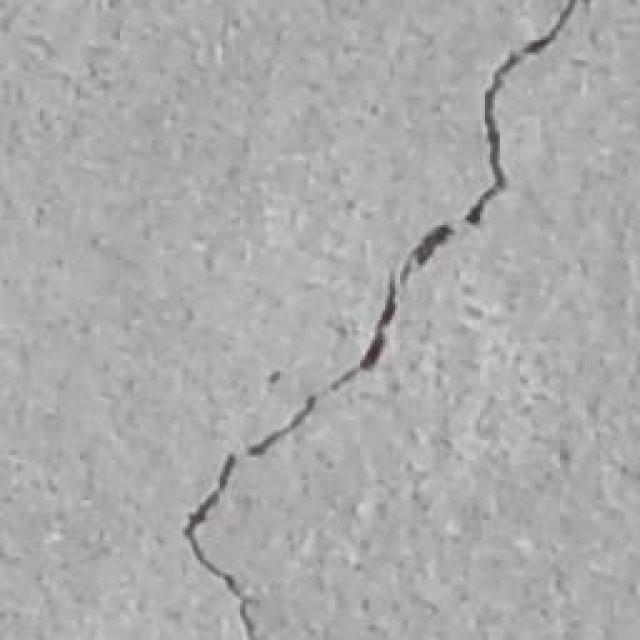concrete-crack: (245, 222, 452, 458), (460, 0, 580, 225), (180, 458, 255, 640)
